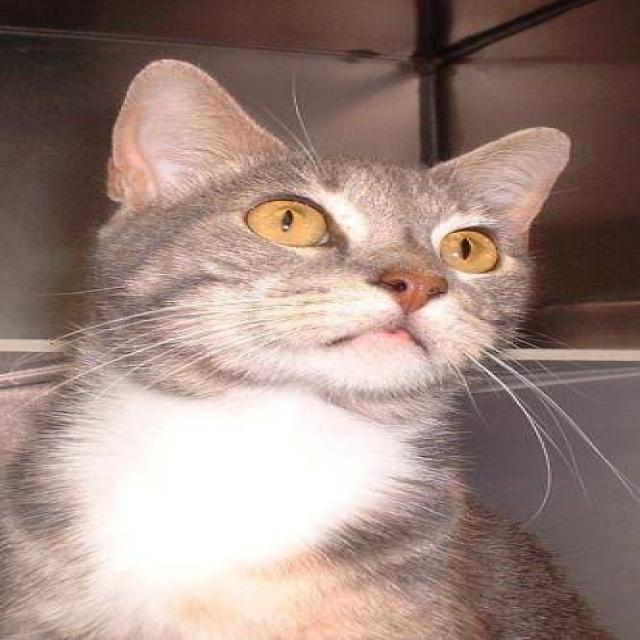cat: (0, 56, 638, 639)
